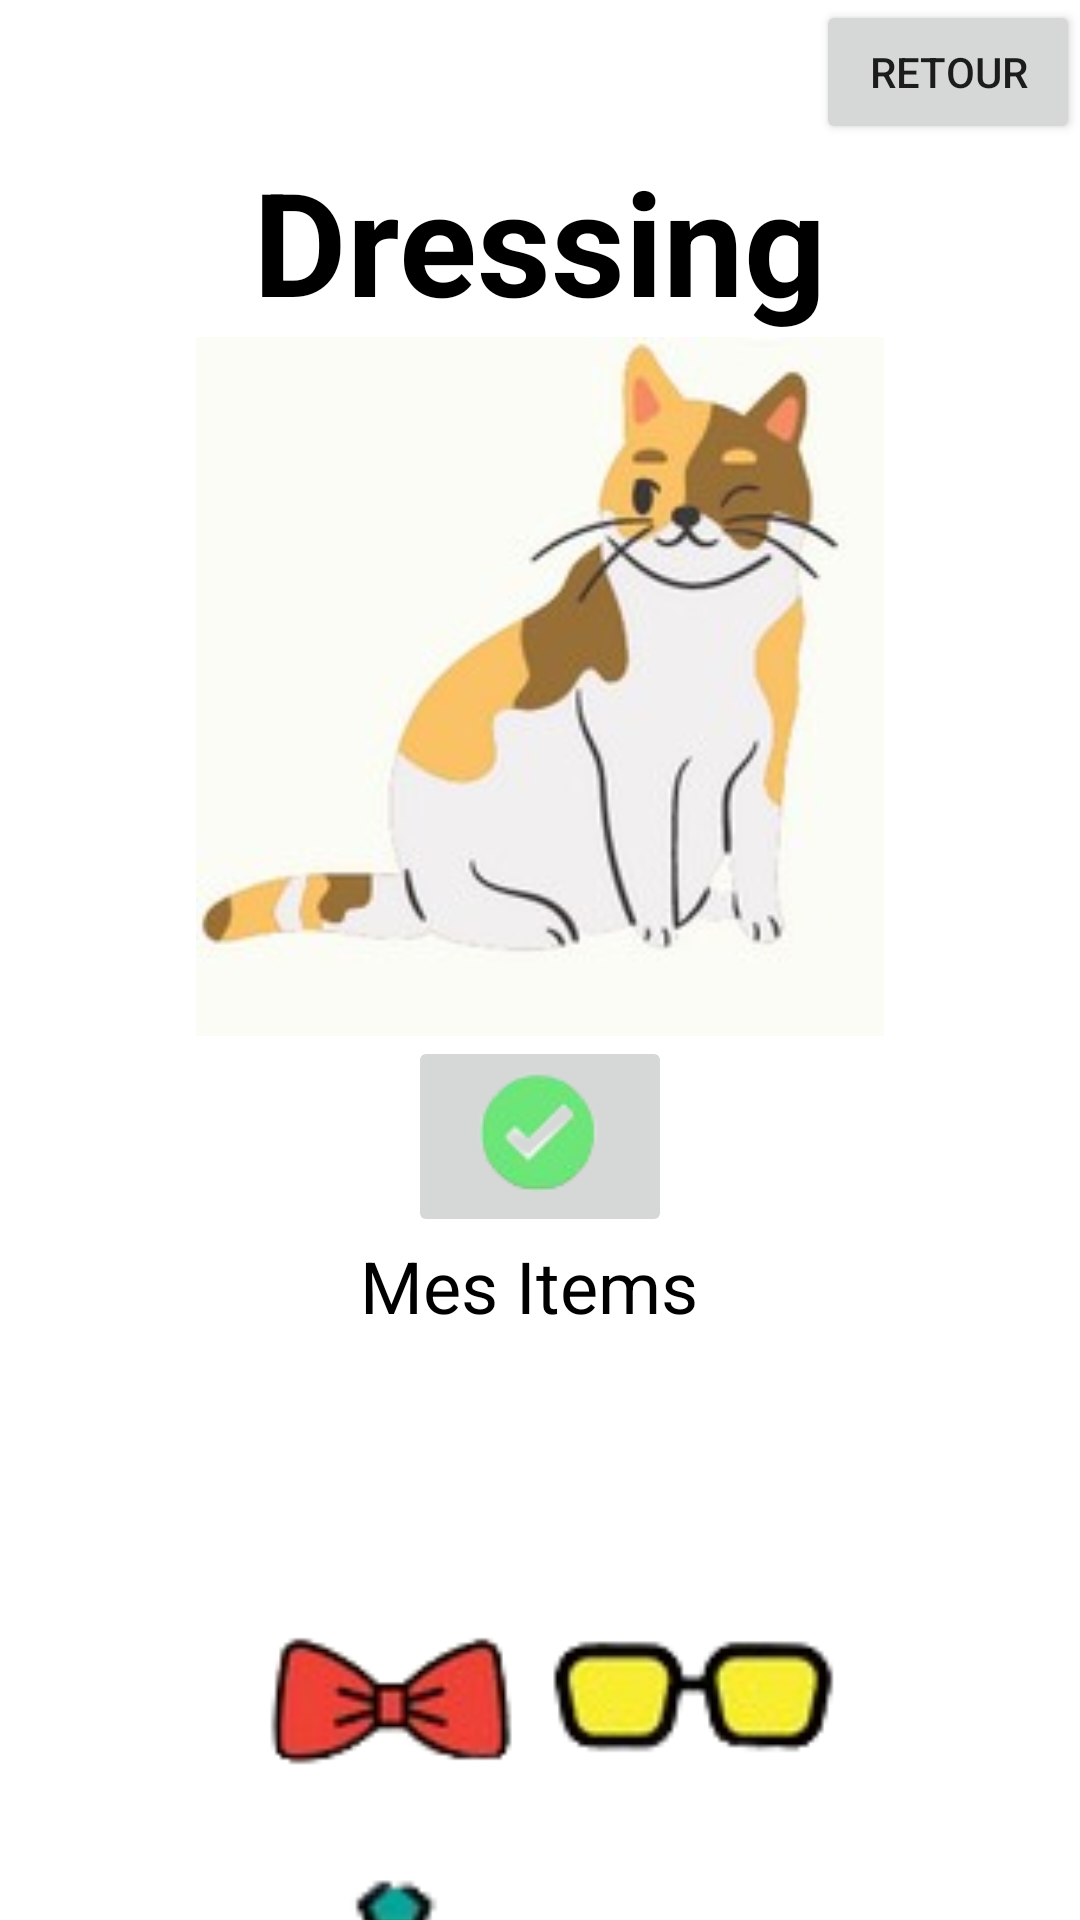

Screen size 1080px x 1920px. Icon name, then its center in pixels as (x,y):
bow tie: (391,1701)
check: (540,1136)
glasses: (693,1696)
